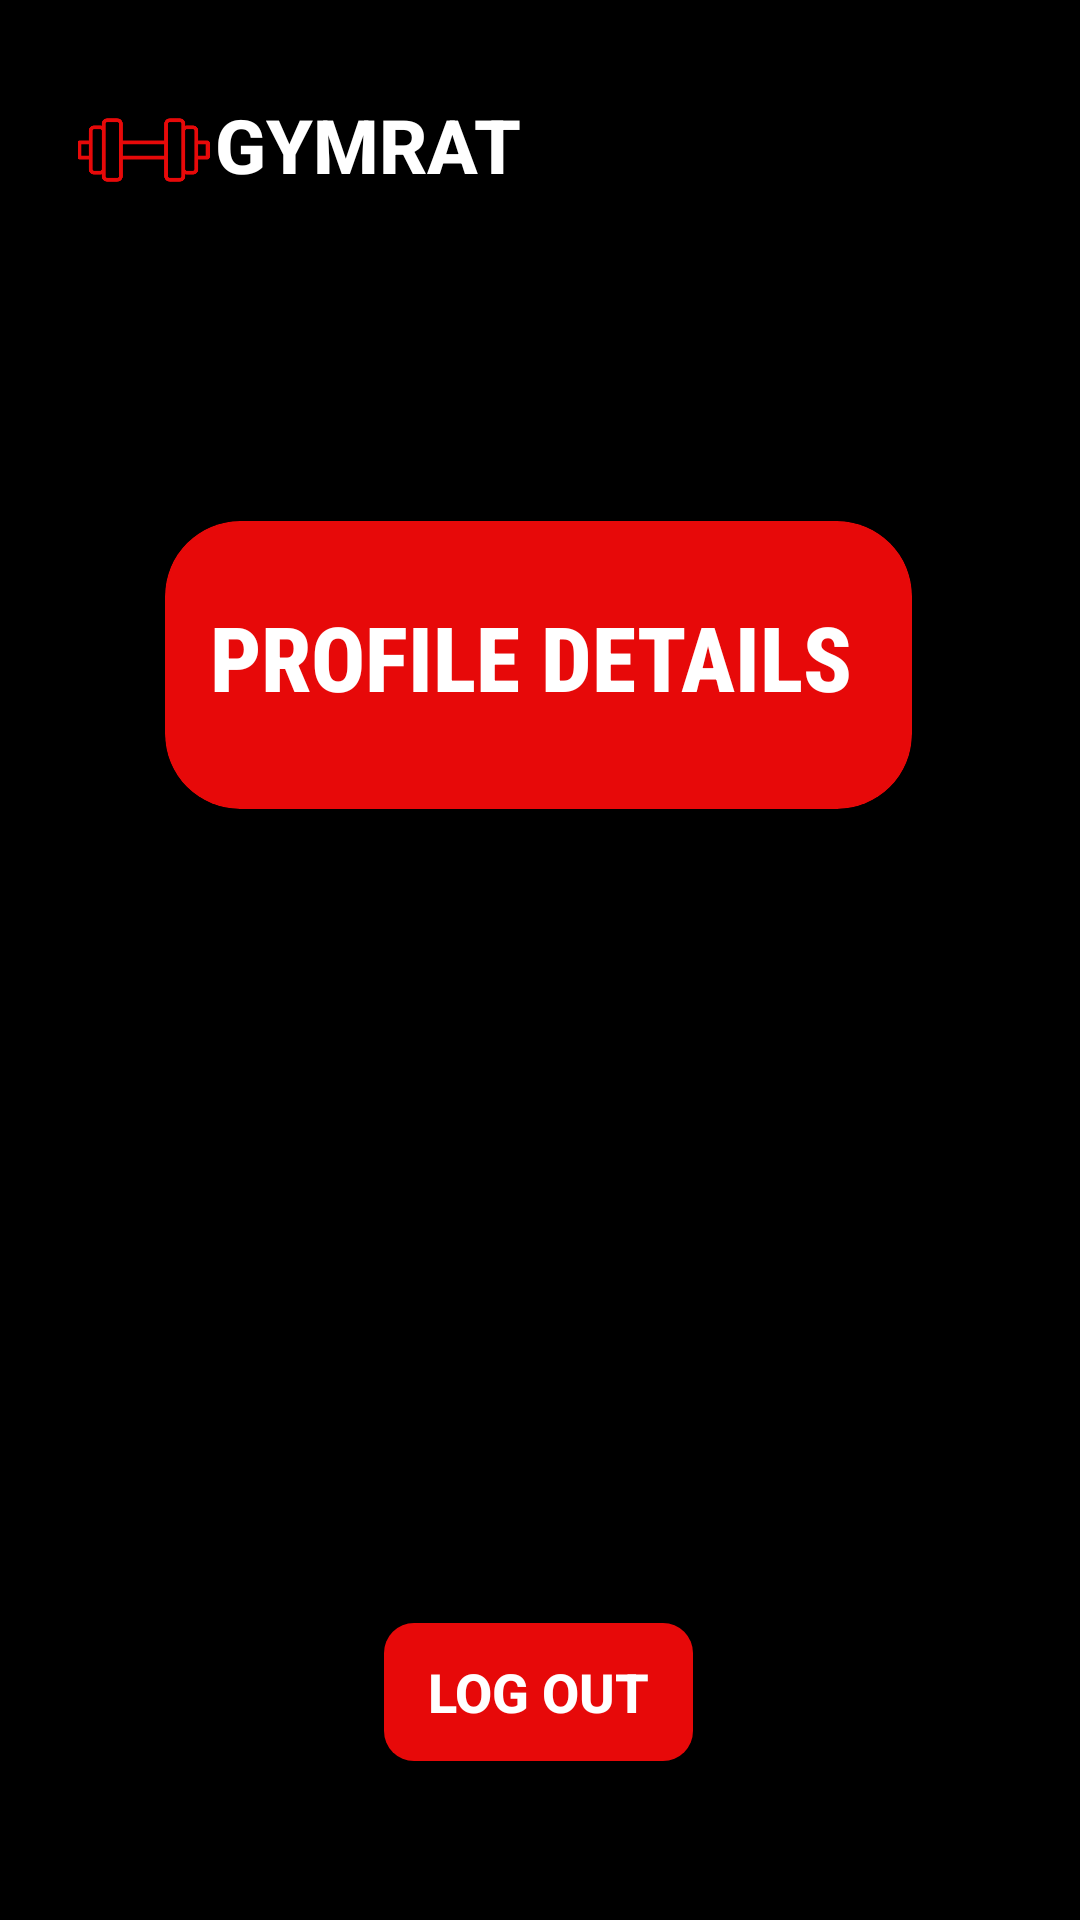

Locate icon controls on the screen. Image size 1080×1920, boxes as (x1, y1, x2, y2).
imgdumbell: (78, 118, 210, 182)
